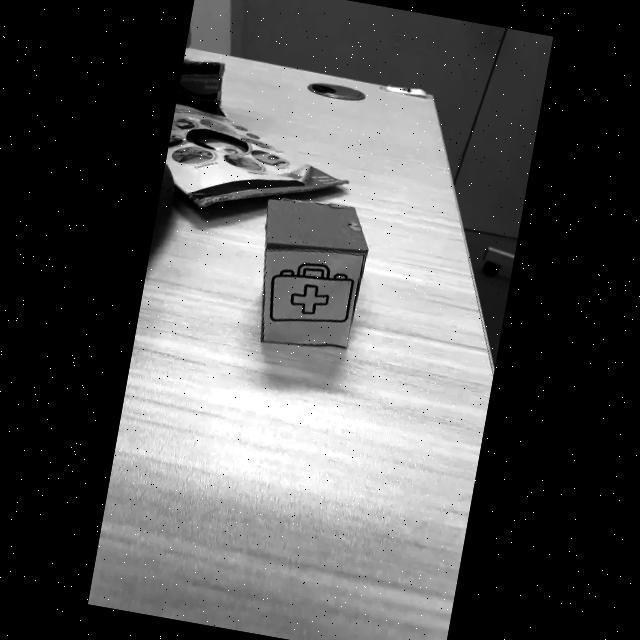Medkit: (269, 263, 354, 322)
